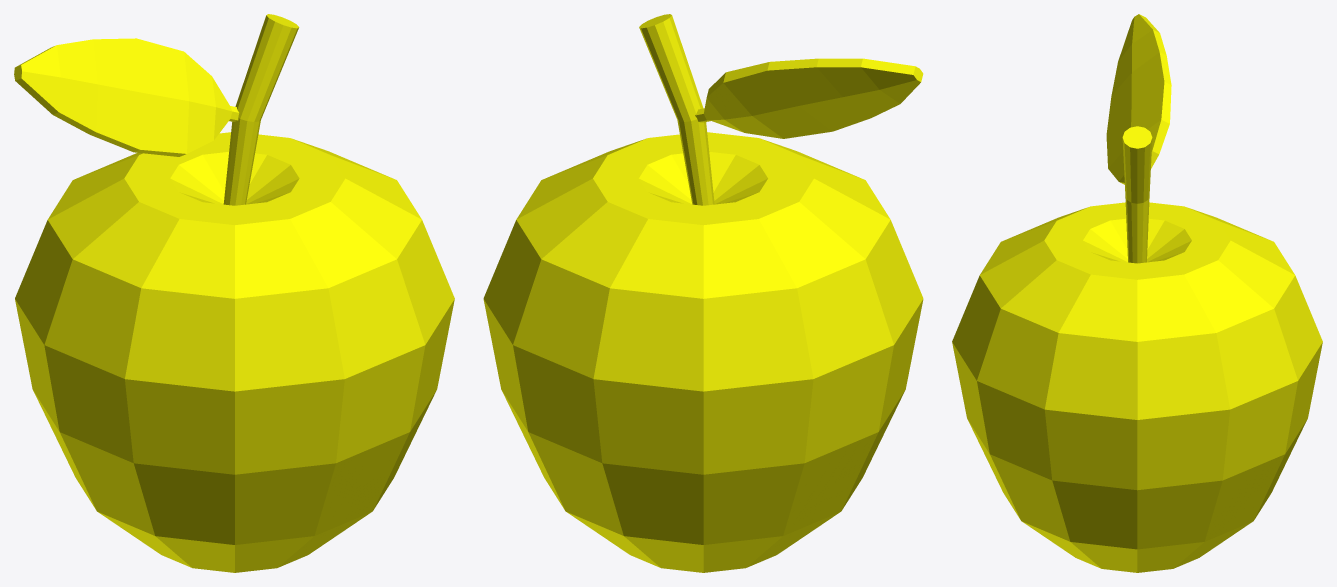
File: apple.glb
3 renders of one model, left to right at view 1: azimuth 30°, elevation 25°; view 2: azimuth 150°, elevation 25°; view 3: azimuth 270°, elevation 25°, orthographic. The views are drawn at different scales.
Parts seen in each view (by area): view 1: apple; view 2: apple; view 3: apple.
Boxes of the visible parts, left/top/right/bottom form: apple: left=14, top=14, right=454, bottom=572; apple: left=483, top=14, right=923, bottom=572; apple: left=952, top=14, right=1322, bottom=572.
Bounding box in the file's own units: 2.39 × 2.94 × 2.22.
Materials: 1 (1 with a texture image).
